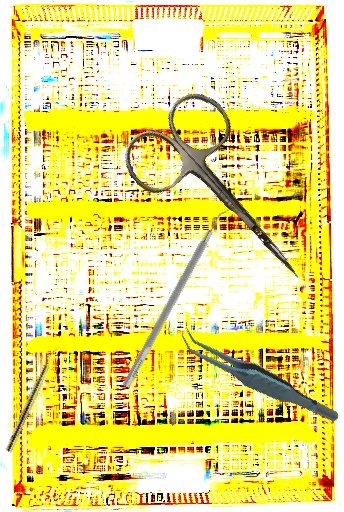Handpiece: (4, 343, 61, 454)
Iris Scissors: (113, 80, 340, 317)
Spatula Surgical: (121, 201, 236, 393)
Tissue Forceps: (175, 302, 342, 453)
